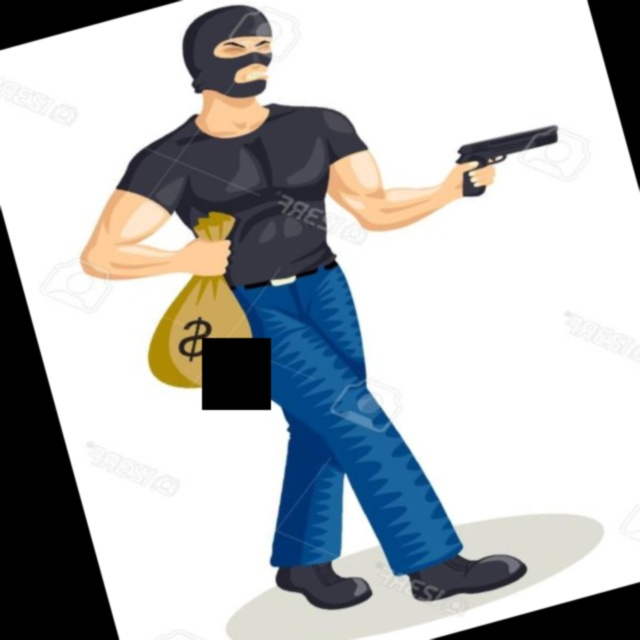gun: (400, 95, 591, 251)
